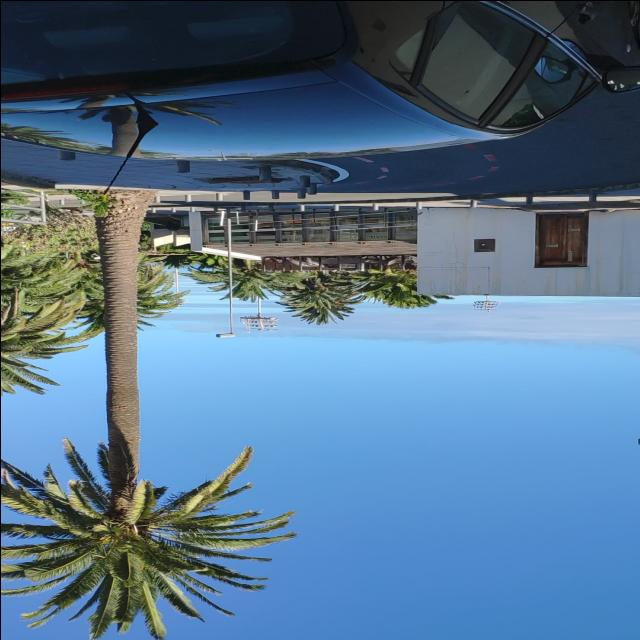Palm-Trees: (0, 192, 282, 640)
